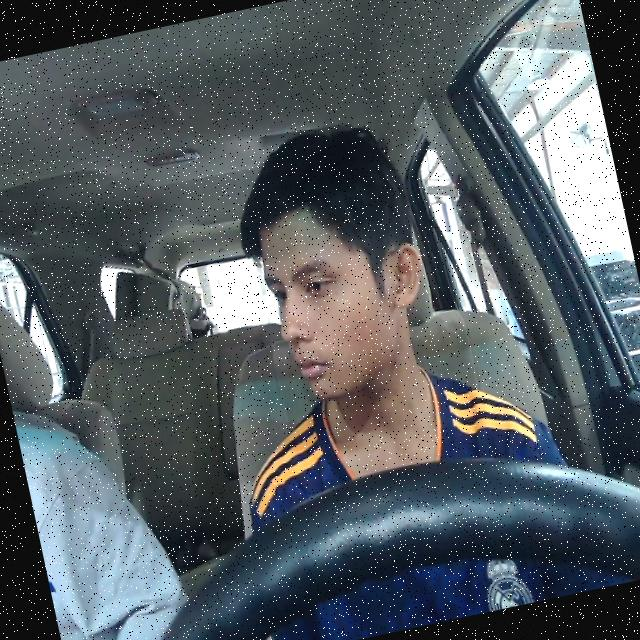seeing_left: (249, 182, 444, 408)
